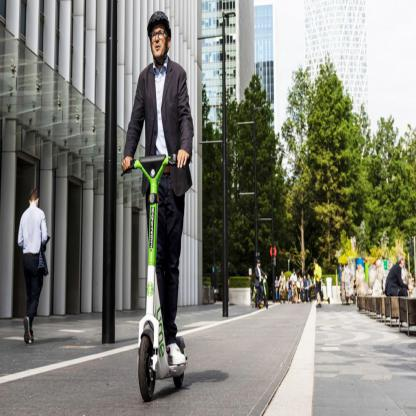scooter: (121, 154, 187, 401)
with helmet: (147, 8, 171, 63)
